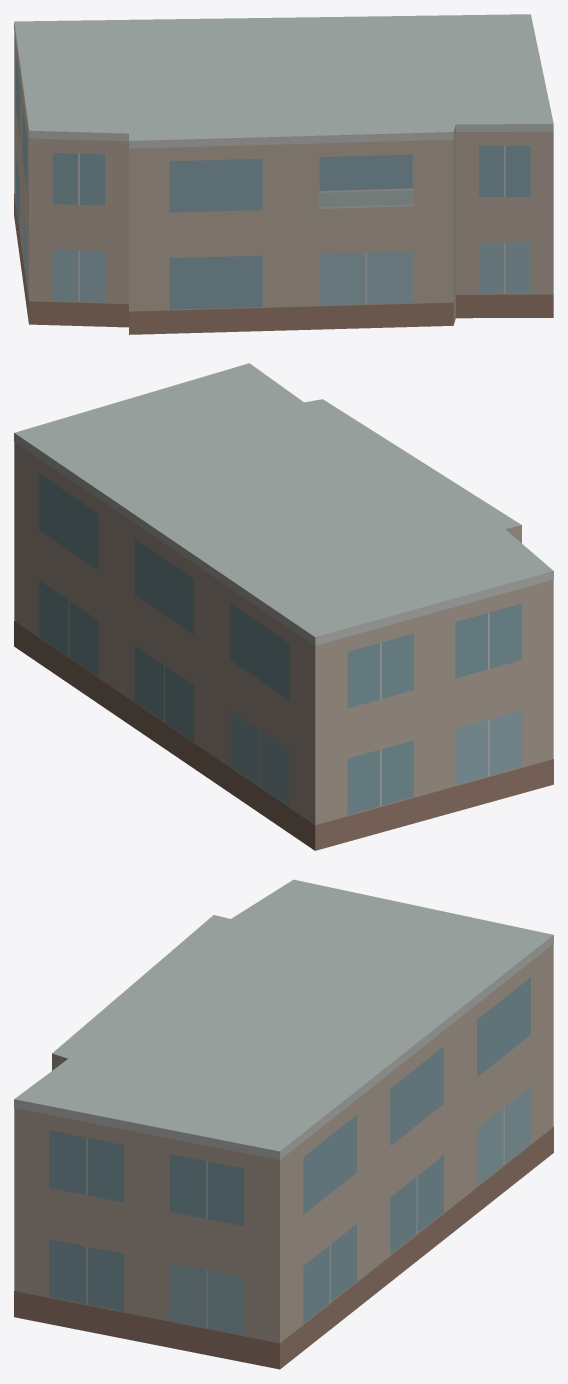
The model's file is survey-upis-32762984.glb.
The picture shows the model from 3 angles, top to bottom: view 1: azimuth 30°, elevation 25°; view 2: azimuth 150°, elevation 25°; view 3: azimuth 270°, elevation 25°; orthographic projection. The views are drawn at different scales.
Visible parts, largest first — view 1: survey-upis-32762984.tmp; view 2: survey-upis-32762984.tmp; view 3: survey-upis-32762984.tmp.
Boxes of the visible parts, x1,y1,x2,y2 form: survey-upis-32762984.tmp: (14,14,553,334); survey-upis-32762984.tmp: (14,363,553,850); survey-upis-32762984.tmp: (14,879,553,1369).
Bounding box in the file's own units: 16.34 × 6.1 × 13.7.
